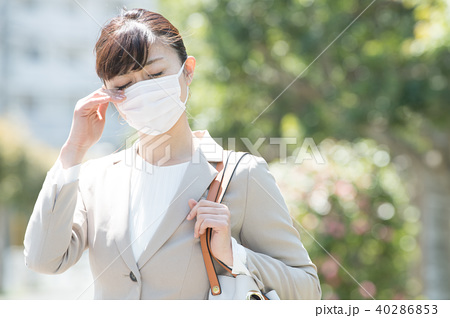mask: (109, 75, 190, 136)
